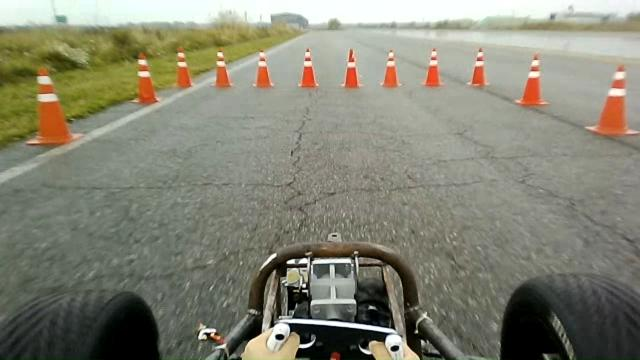red cone: (25, 66, 84, 146), (584, 64, 639, 136), (514, 53, 548, 106), (130, 52, 158, 104), (339, 47, 364, 88), (467, 46, 490, 87), (380, 48, 402, 88), (210, 48, 232, 88), (297, 47, 318, 88), (422, 47, 444, 86), (252, 49, 274, 88), (173, 46, 193, 88)
